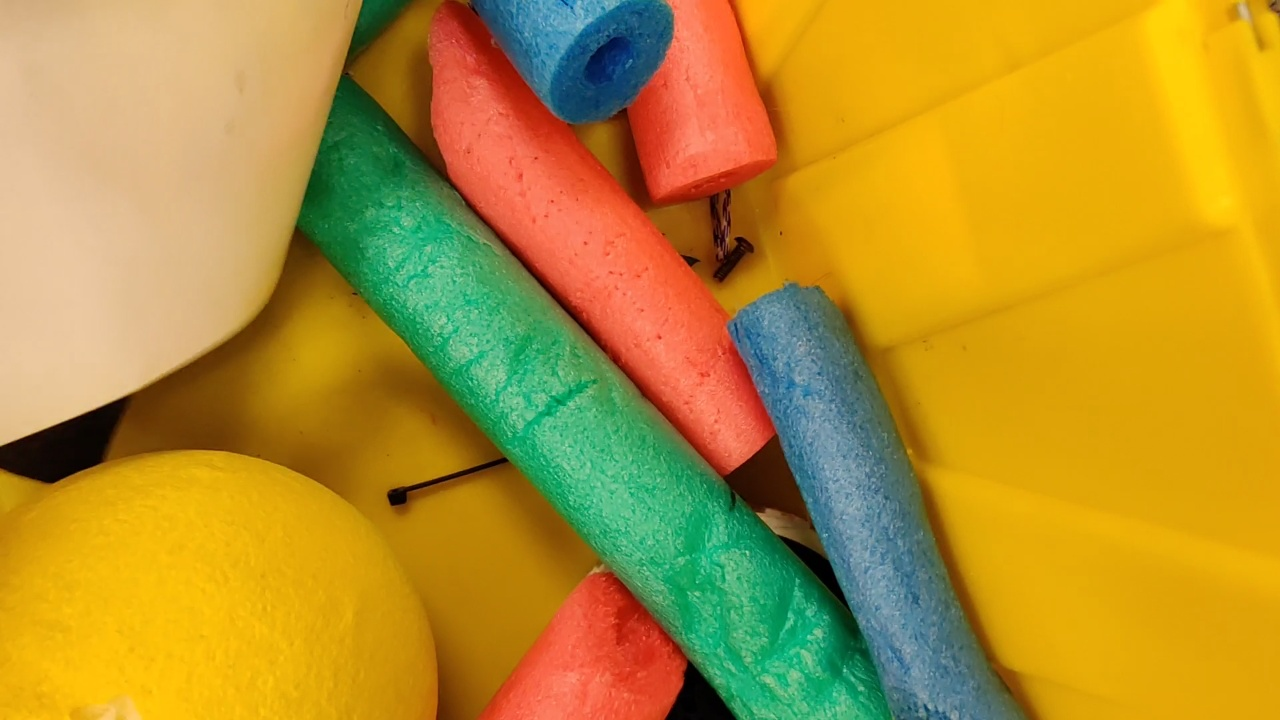Ball: (2, 448, 439, 720)
